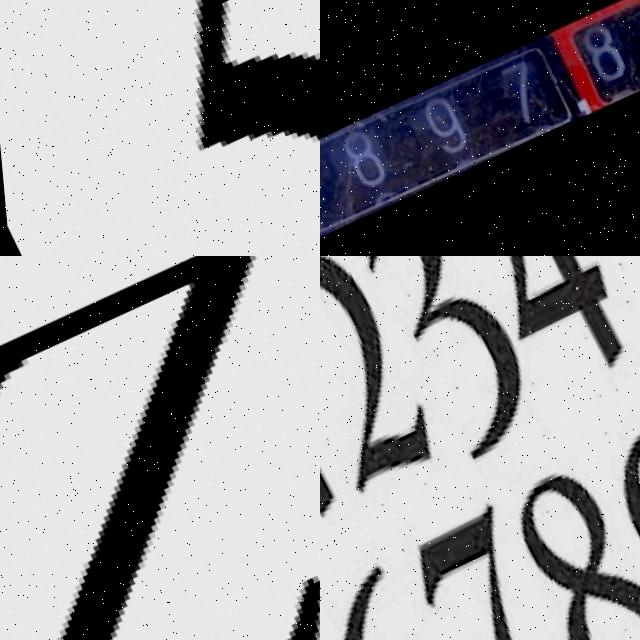2: (320, 256, 448, 508)
3: (335, 256, 554, 478)
4: (425, 256, 640, 413)
5: (5, 0, 320, 256), (531, 256, 640, 388)
6: (320, 540, 496, 640)
7: (382, 491, 596, 640), (486, 58, 546, 134)
8: (478, 447, 640, 640), (564, 19, 626, 94), (325, 126, 383, 196)
9: (577, 398, 640, 640), (404, 89, 463, 162)
Z: (0, 256, 320, 640)
